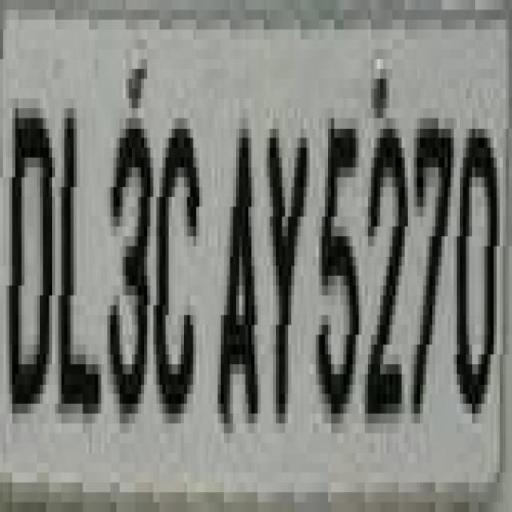number plate: (3, 10, 484, 492)
